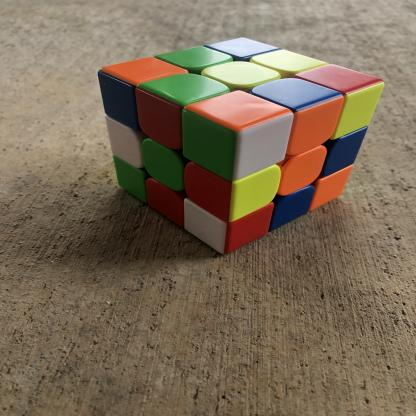UnsolvedCube: (77, 32, 388, 262)
